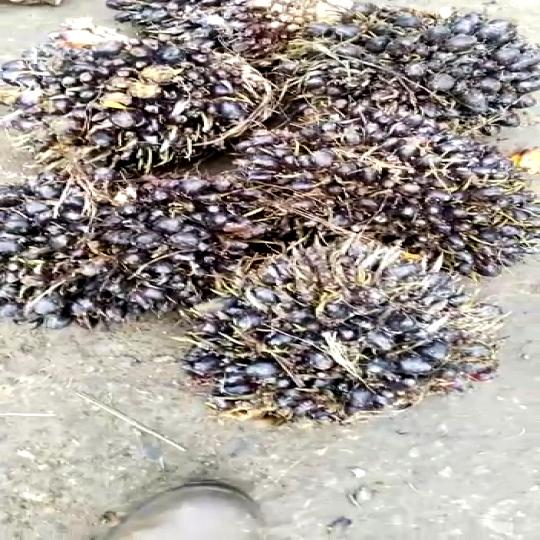mentah: (7, 0, 540, 428)
